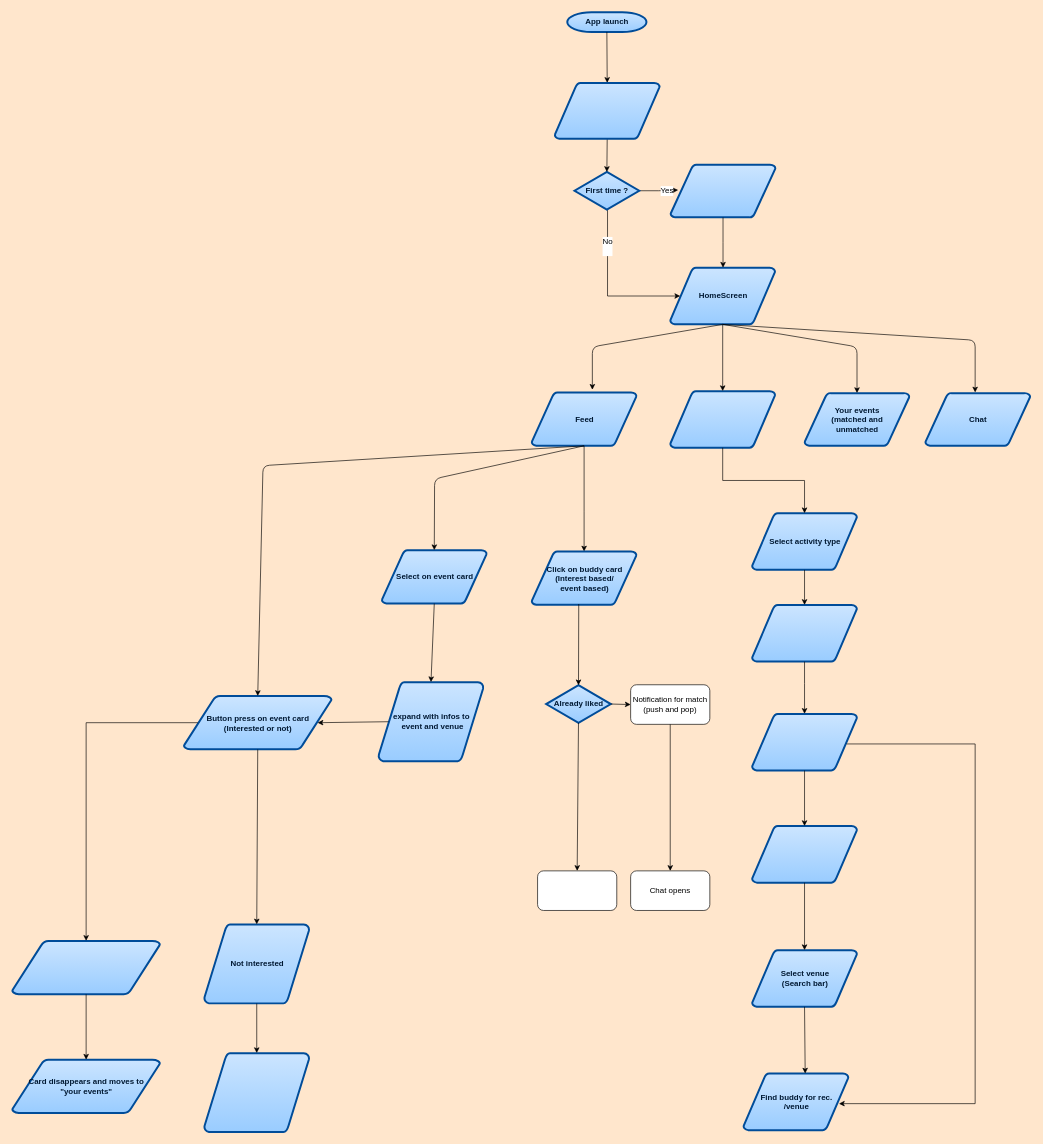
Image size: 1043x1144. Some labels were removed from this diagram. Each missing label, with the centre of its shape:
"Buddfy search" belongs at (722,419).
"Card disappears from feed forever" belongs at (256,1092).
"Find other venue" belongs at (804,854).
"Goes into other users feed" belongs at (577,890).
"Interested" belongs at (86,967).
"Login" belongs at (606,111).
"Recomendation" belongs at (804,741).
"Select Interests" belongs at (722,190).
"Select subactivity type" belongs at (804,633).
